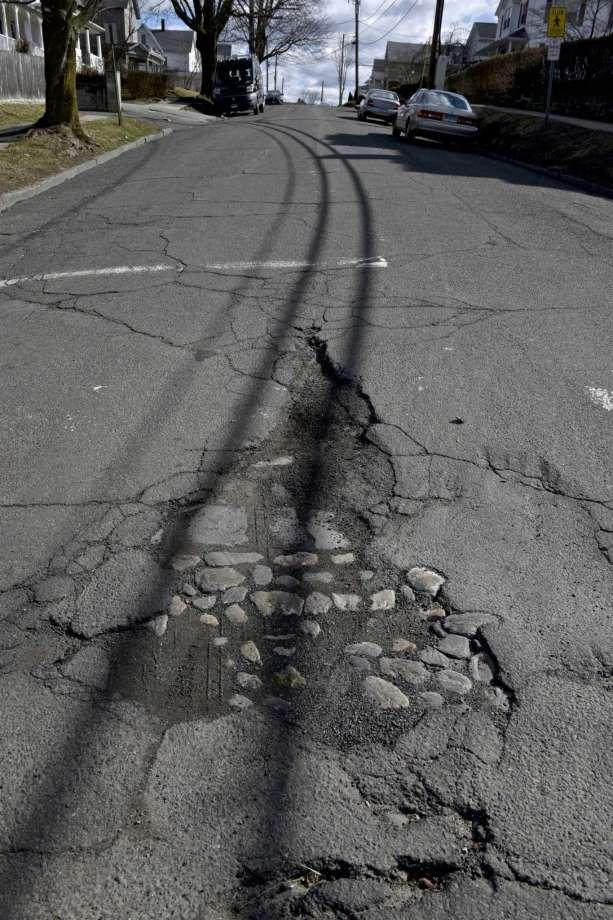Pothole: (31, 331, 532, 737), (209, 817, 549, 918)
